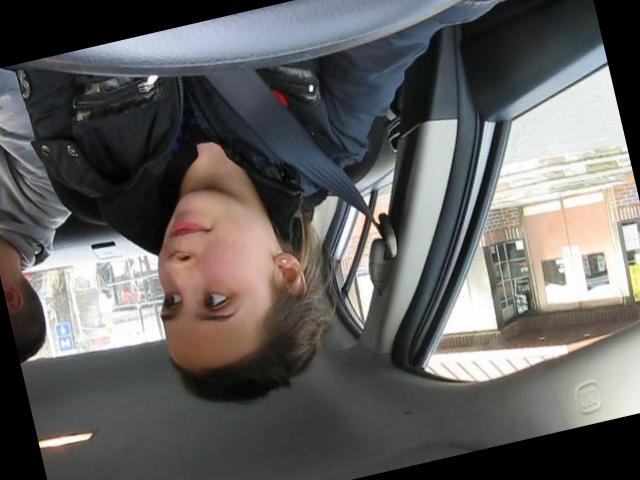eye_open: (197, 282, 233, 316), (158, 286, 188, 318)
face: (137, 177, 284, 350)
